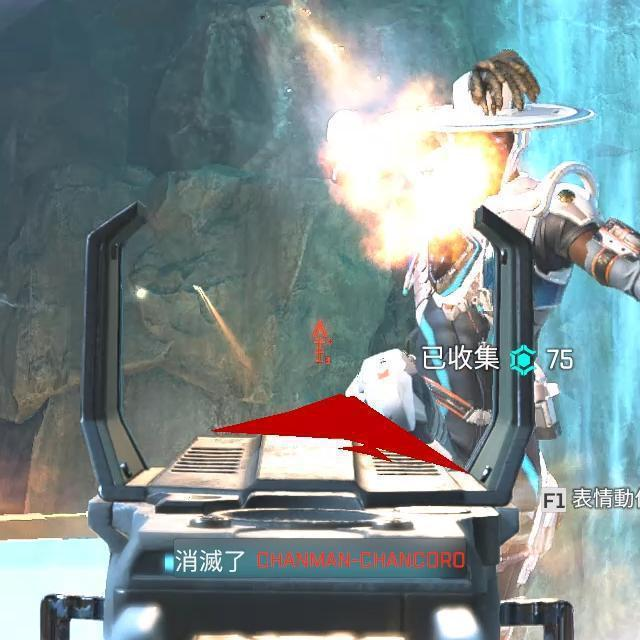avatar: (396, 49, 602, 341)
